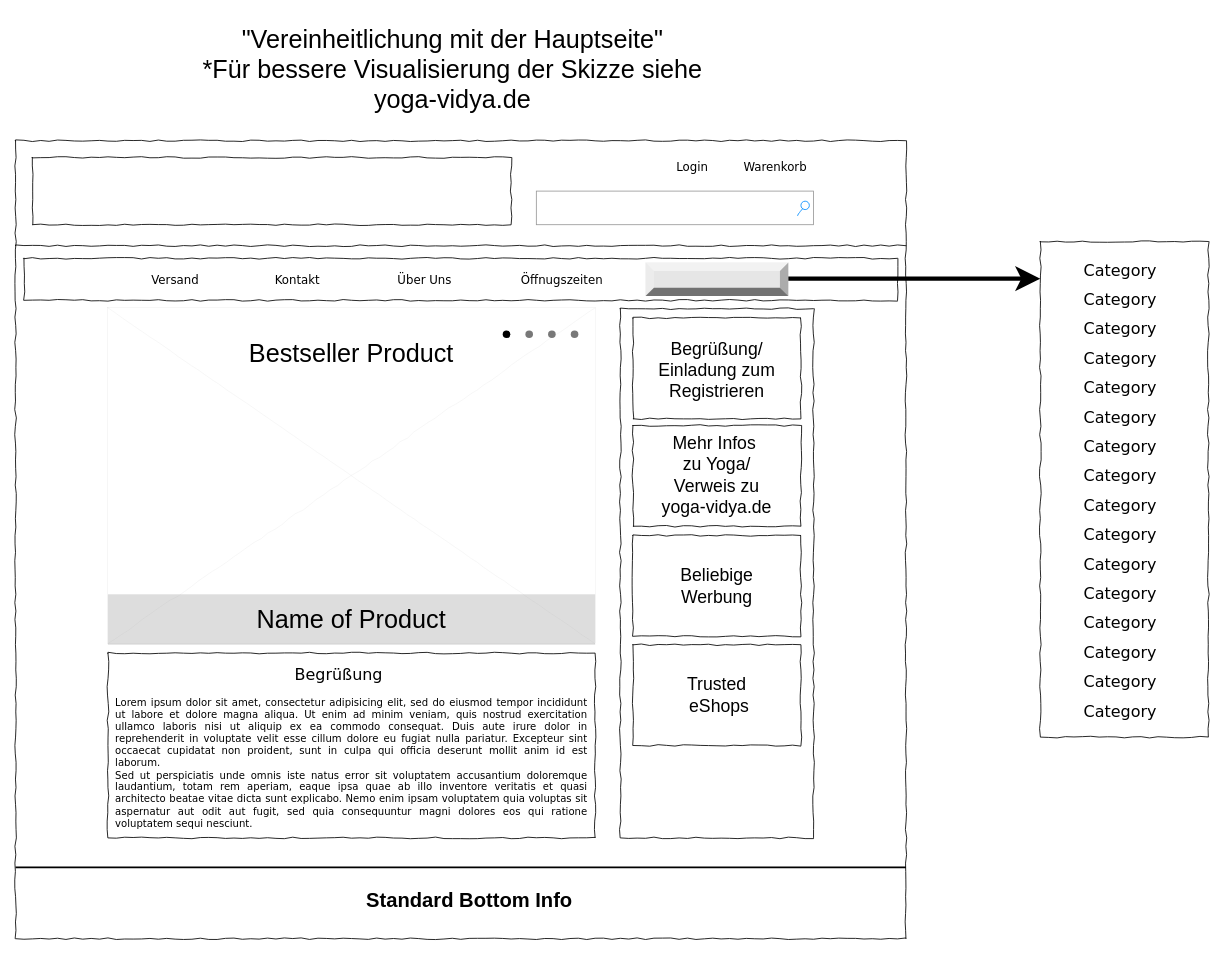
Some shapes in this 1223 by 953 pixel diagram are drawn without their labels. The centre of each missing label's shape, as x and y in pixels:
"Kategorien" belongs at point (716, 279).
"LOGO" belongs at point (271, 191).
"Search" belongs at point (675, 207).
